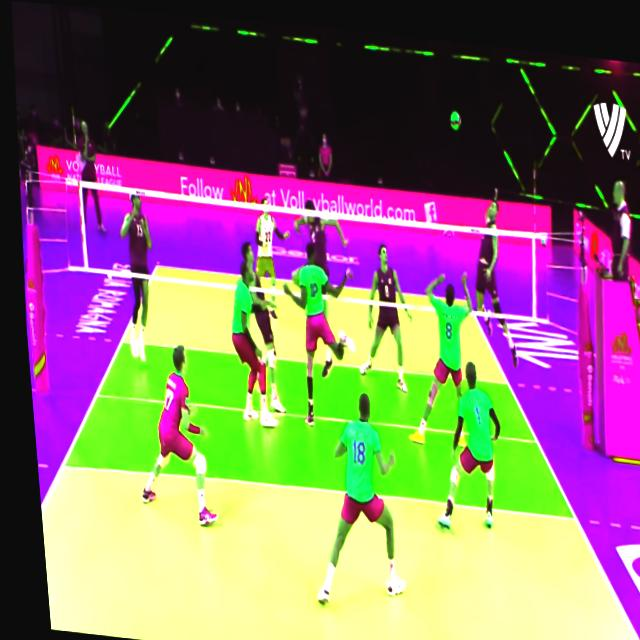player: (295, 376, 409, 607), (270, 231, 371, 425), (120, 334, 214, 525), (394, 261, 486, 453), (417, 344, 505, 530), (106, 177, 164, 372), (218, 250, 280, 429), (462, 176, 520, 364), (230, 232, 289, 416), (352, 232, 414, 393), (284, 186, 354, 299), (245, 187, 292, 313)
